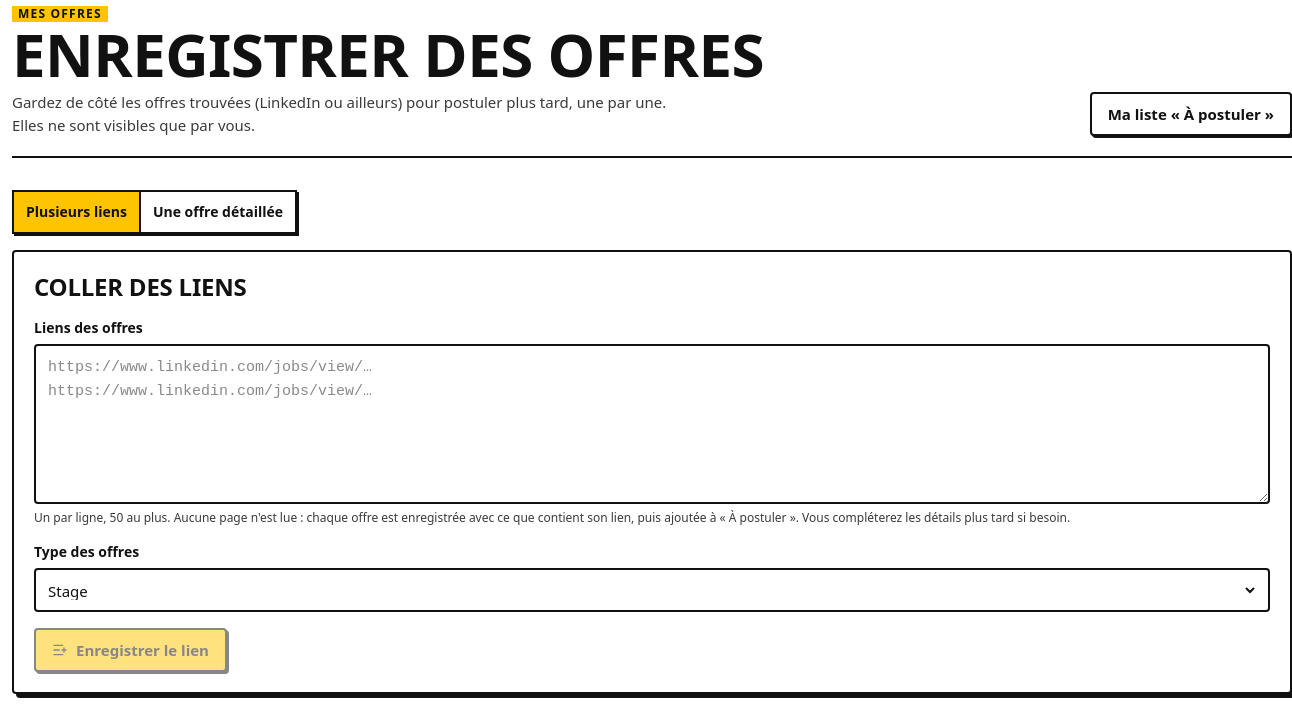
Test: offre détaillée avec texte collé › affiche le refus d'un lien non public
Click the radio button labelled "Une offre détaillée".
click(218, 212)  # box [141, 192, 295, 232]
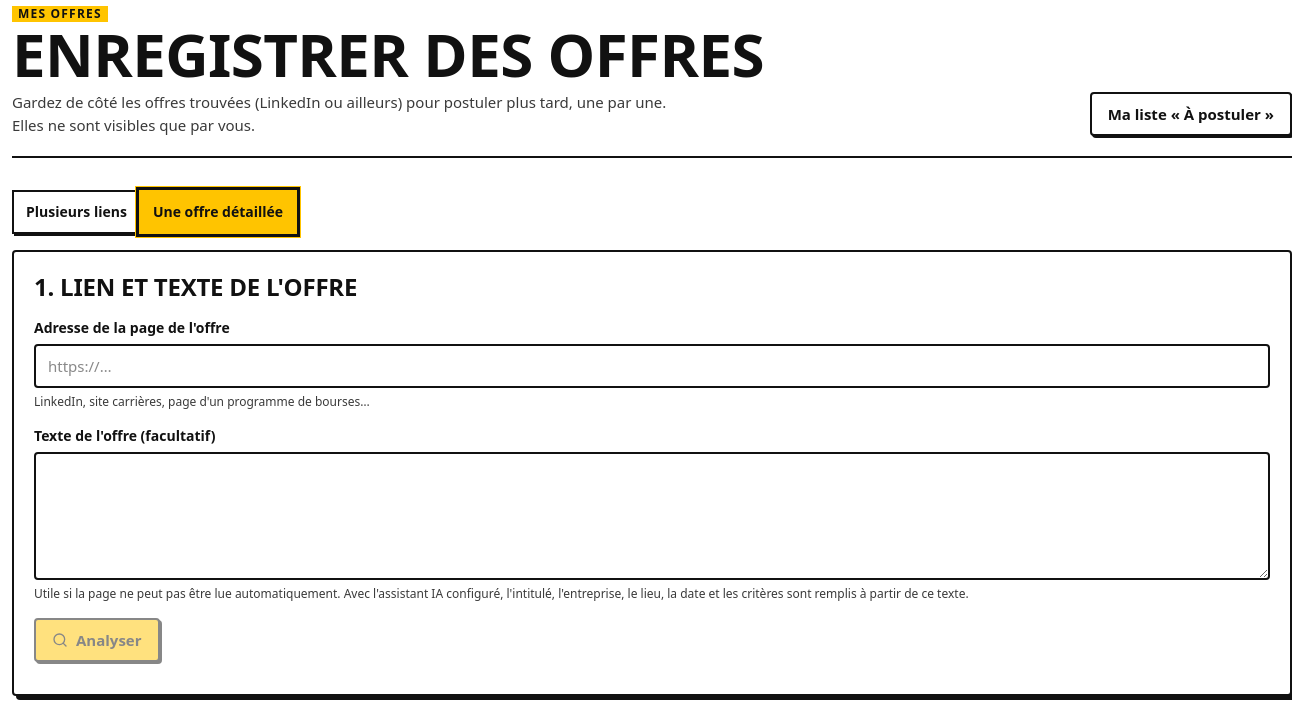
Type "http://127.0.0.1/admin" into the field labelled "Adresse de la page de l'offre".
click(652, 366); type("http://127.0.0.1/admin")  # box [34, 344, 1270, 388]
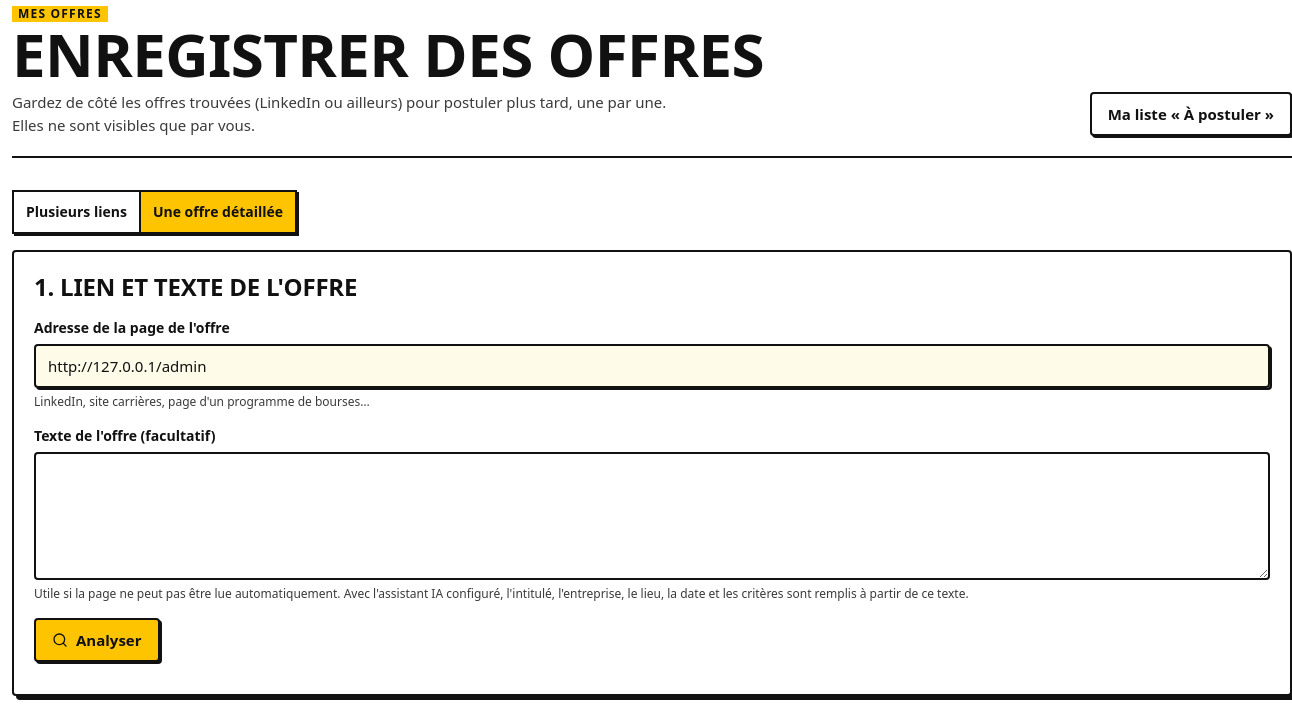
Click the button "Analyser".
click(97, 640)  # box [34, 618, 160, 662]
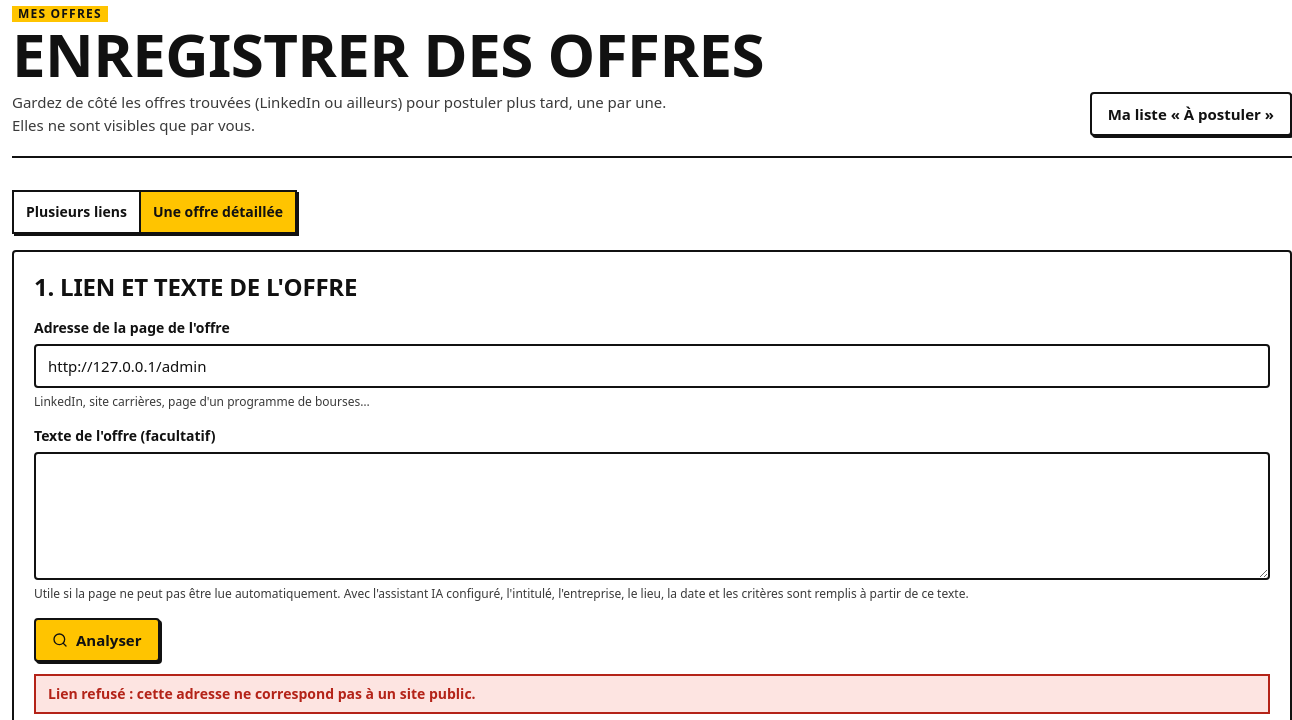
Check: the text "Lien refusé : cette adresse ne correspond pas à un site public." is shown, box [34, 674, 1270, 714]
